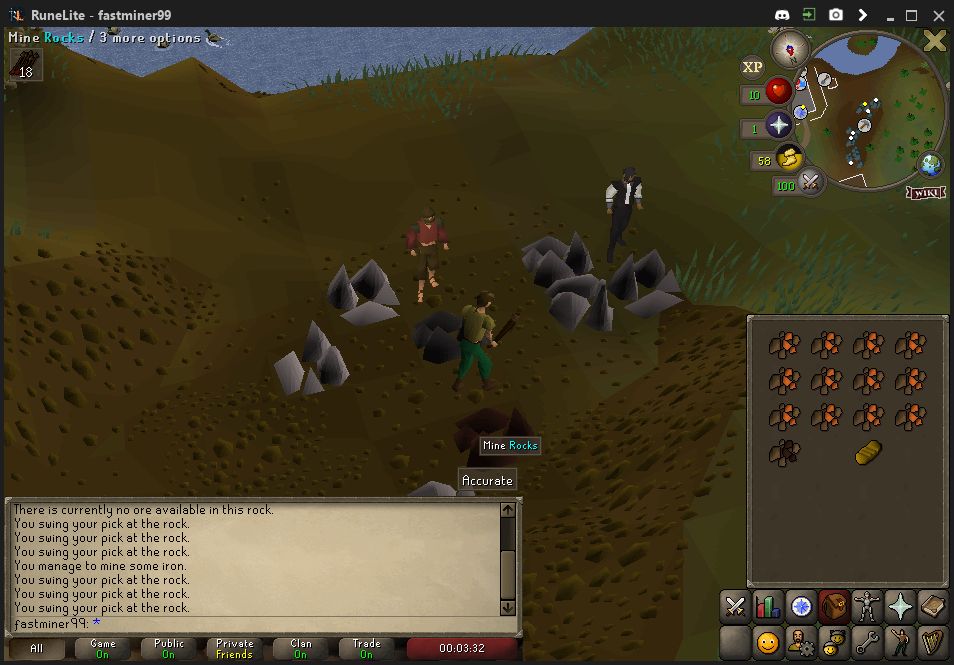depleted: (412, 309, 483, 364)
ore: (449, 406, 541, 473)
